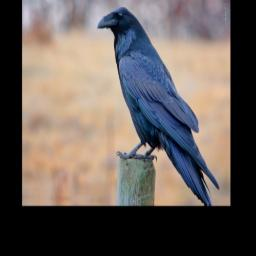Crow: (92, 3, 224, 205)
